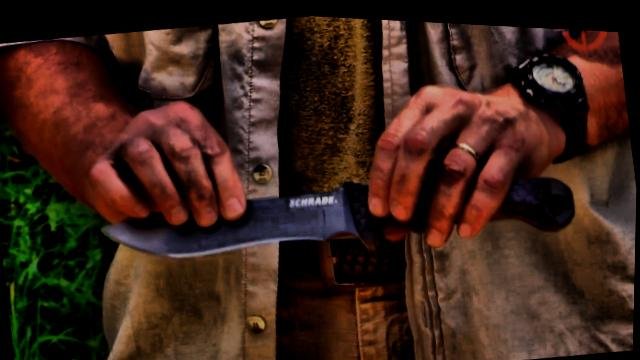knife: (88, 127, 589, 301)
